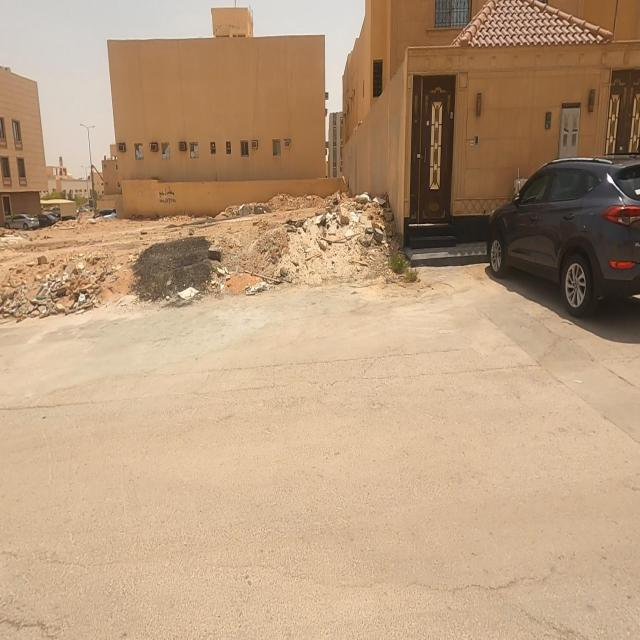Graffiti: (159, 186, 177, 207)
